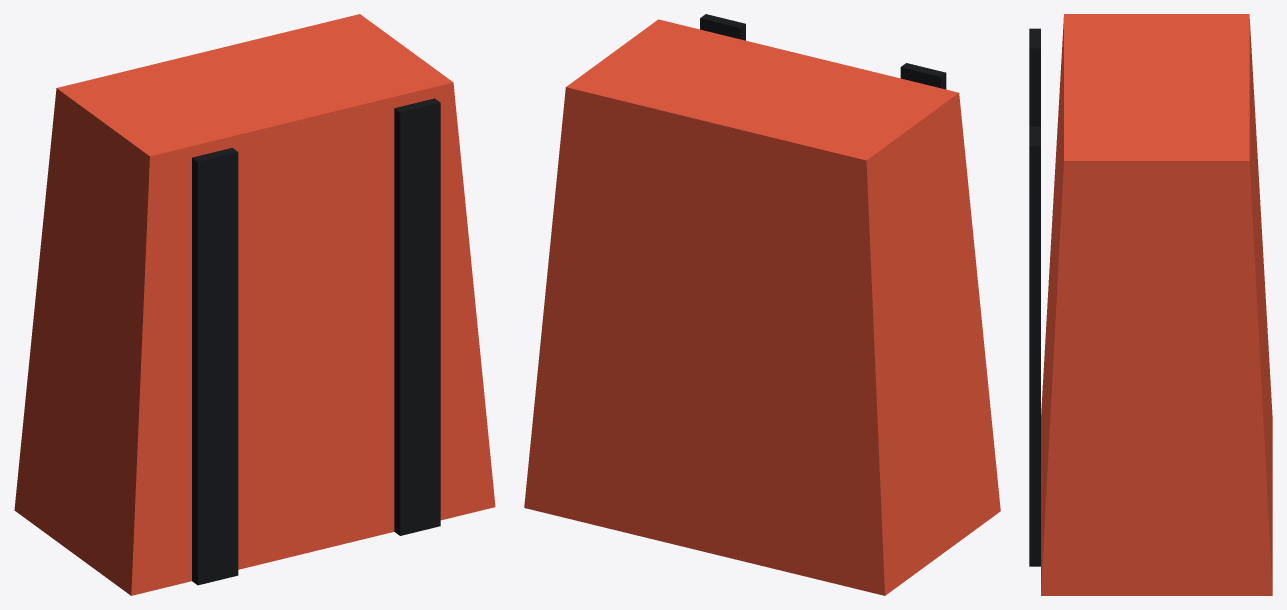
File: pk_parachute.glb
3 views of the same model, side by side, from view 1: azimuth 30°, elevation 25°; view 2: azimuth 150°, elevation 25°; view 3: azimuth 270°, elevation 25° (orthographic).
Visible parts, largest first — view 1: pk_parachute; view 2: pk_parachute; view 3: pk_parachute.
Part boxes in pixels (bbox=[...]): pk_parachute: bbox=[14, 14, 495, 595]; pk_parachute: bbox=[524, 14, 1000, 595]; pk_parachute: bbox=[1029, 14, 1272, 595].
Bounding box in the file's own units: 0.36 × 0.4 × 0.21.
